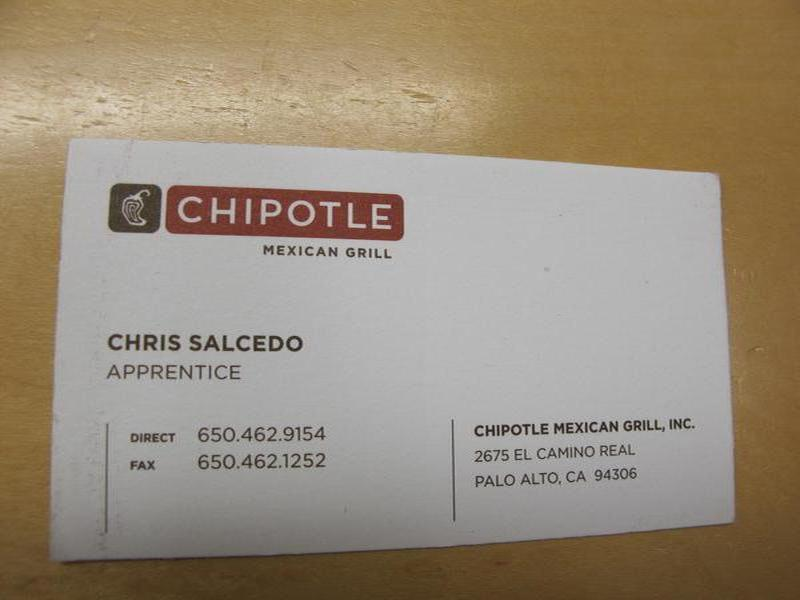card: (60, 137, 740, 561)
